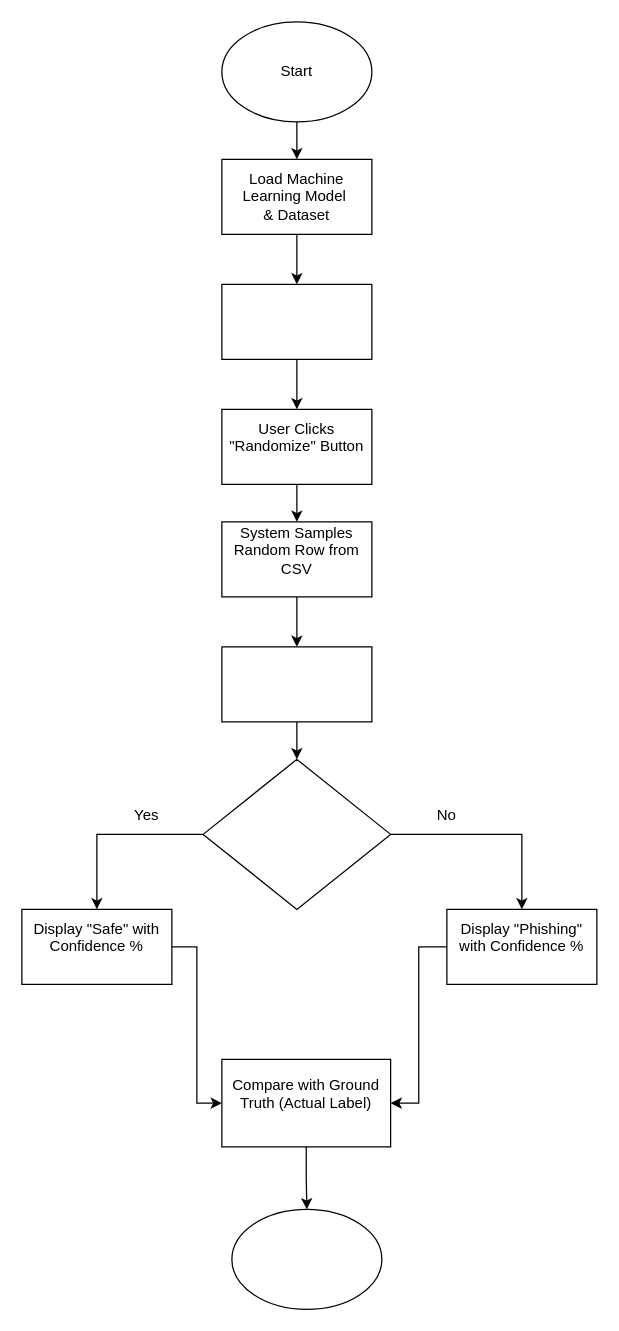
Some shapes in this 619 by 1331 pixel diagram are drawn without their labels. The shapes that lost their labels are listed below. From the top down, each one's box as (x1, y1, x2, y2) in pixels, then its label:
(221, 283, 372, 359): Display User Interface (UI)
(221, 646, 372, 722): Input Features to Random Forest Model
(202, 758, 391, 909): Prediction == 1 (Legitimate)?
(231, 1208, 382, 1309): End
